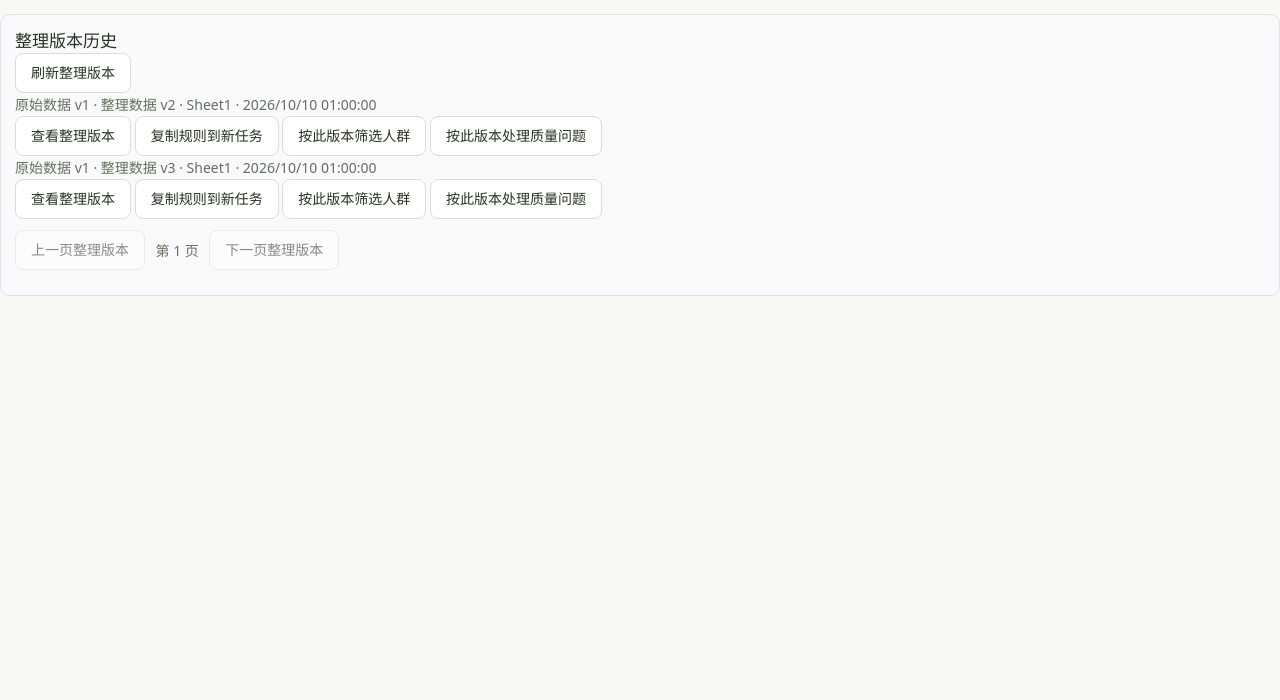
it: the latest history copy choice survives an earlier delayed detail response
This screenshot has width=1280, height=700.
Step 1. Click the button "复制规则到新任务" below "原始数据 v1 · 整理数据 v2" → click(207, 136), box [135,116,279,156]
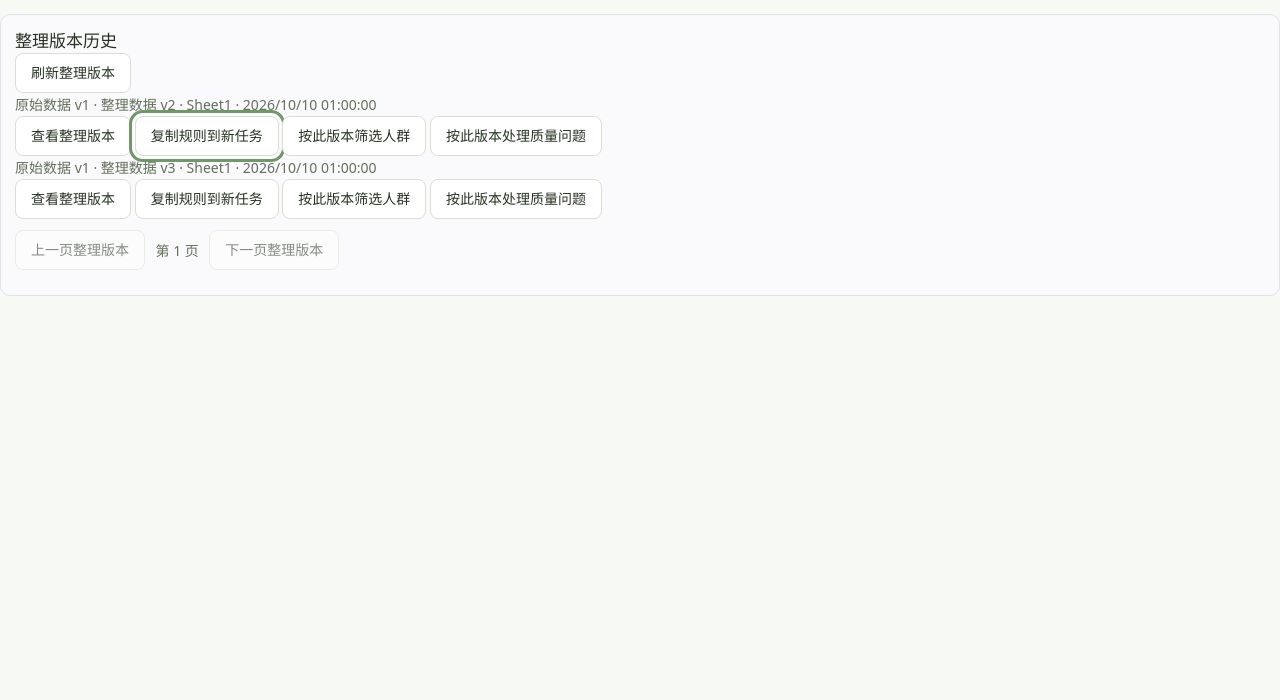
Step 2. Click the button "复制规则到新任务" below "原始数据 v1 · 整理数据 v3" → click(207, 199), box [135,179,279,219]
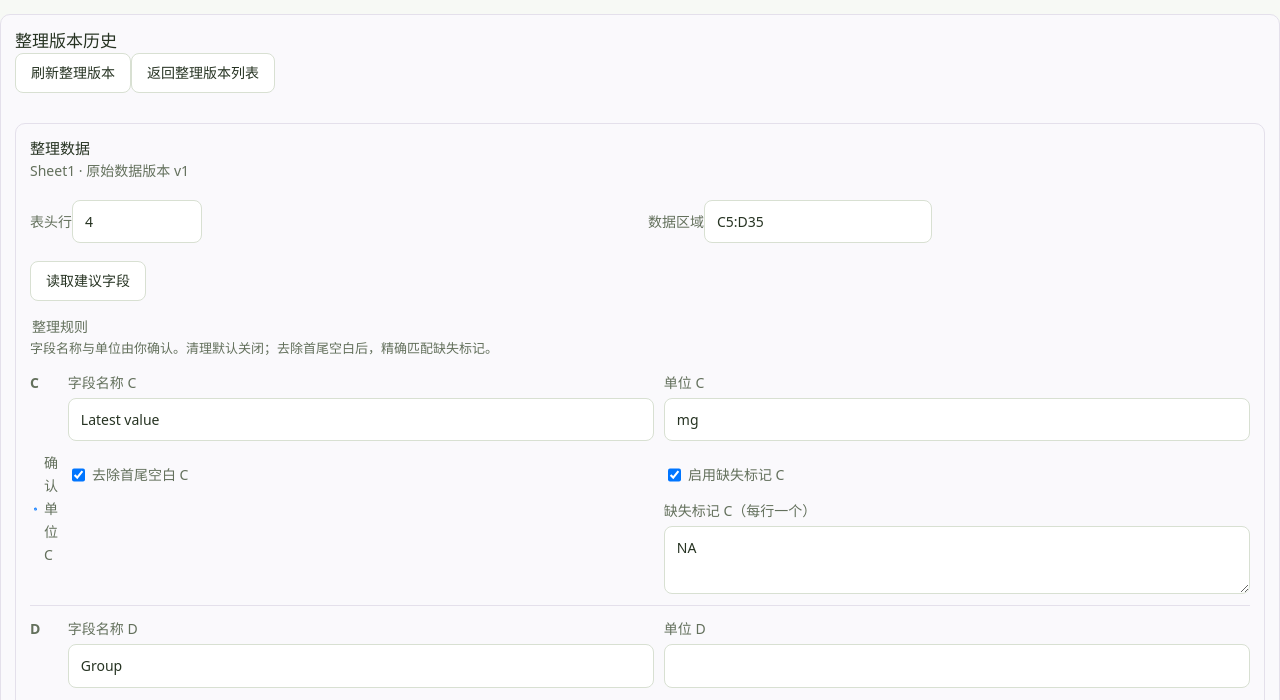
Expected: the field labelled "字段名称 C" is shown
Step 3. Type " draft" into the field labelled "字段名称 C" → (361, 420), box [68,398,654,441]
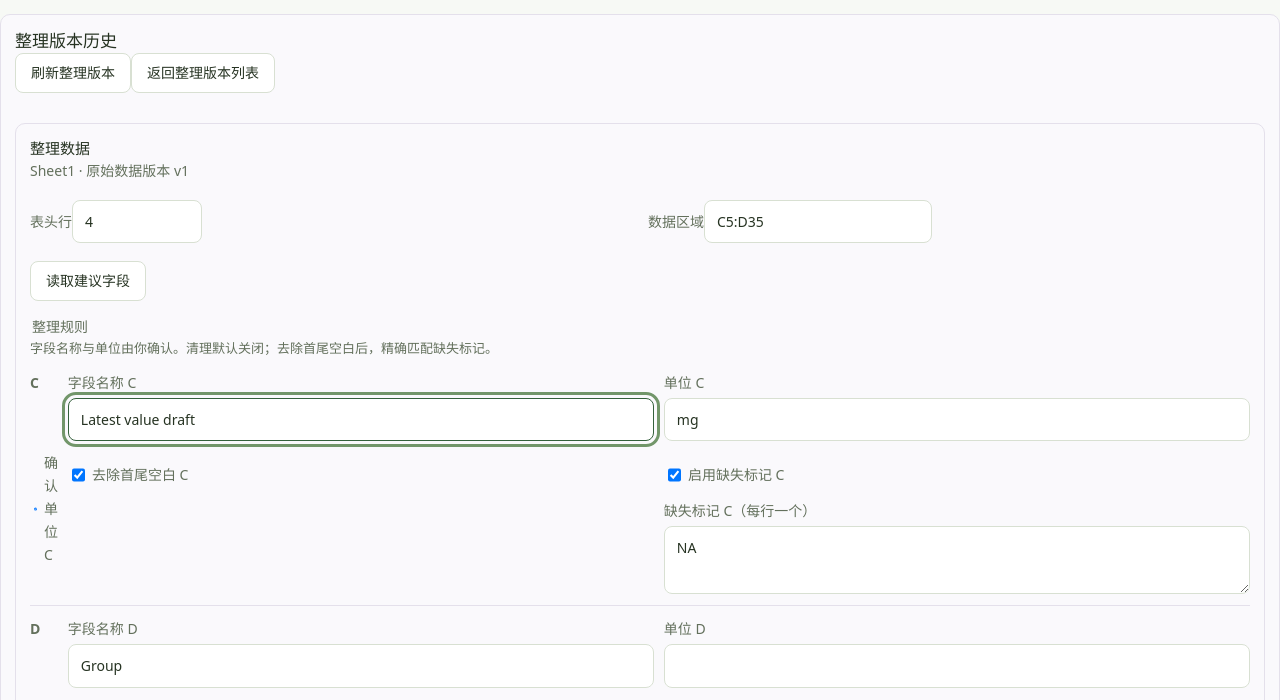
Expected: the field labelled "字段名称 C" holds "Latest value draft", [68,398,654,441]
